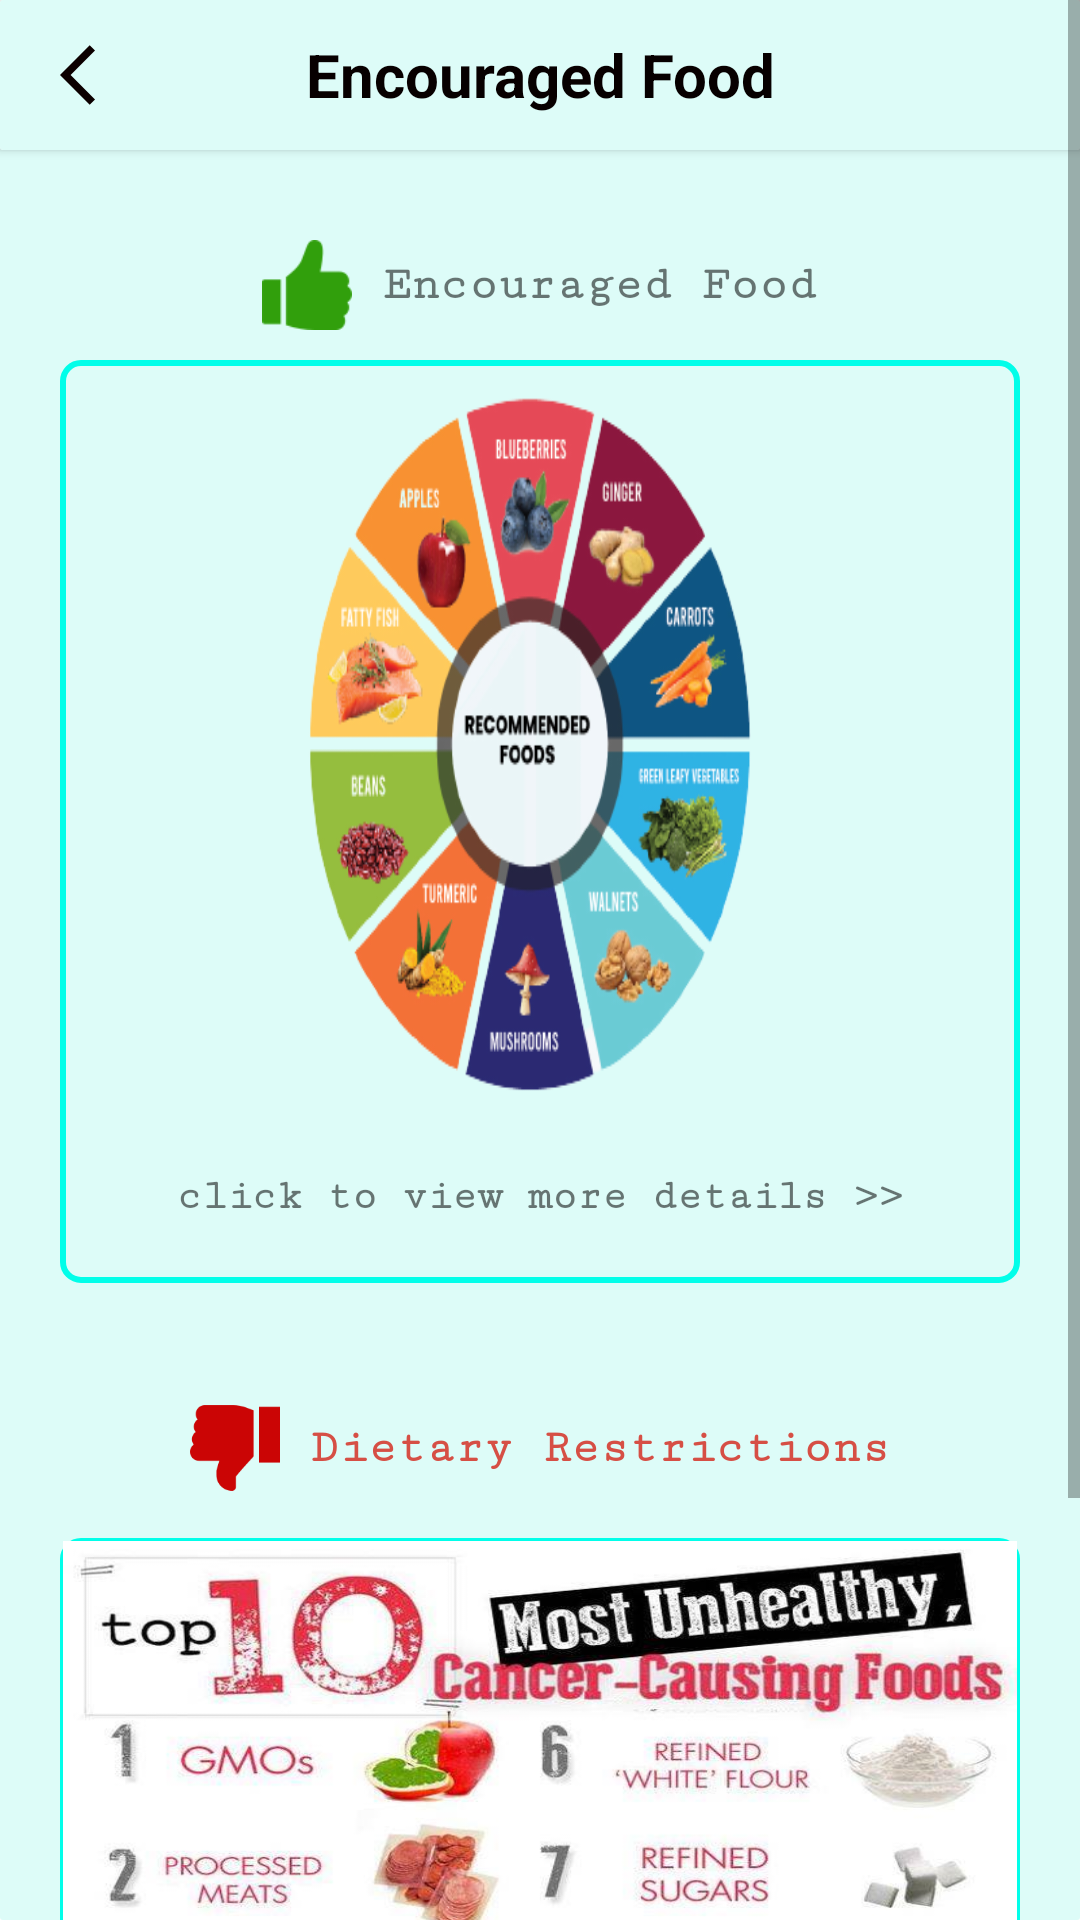

Point at icon controls on the screen. Image size 1080 x 1920, points as [x,y].
back: [77,75]
dislike one: [235,1448]
like one: [307,285]
